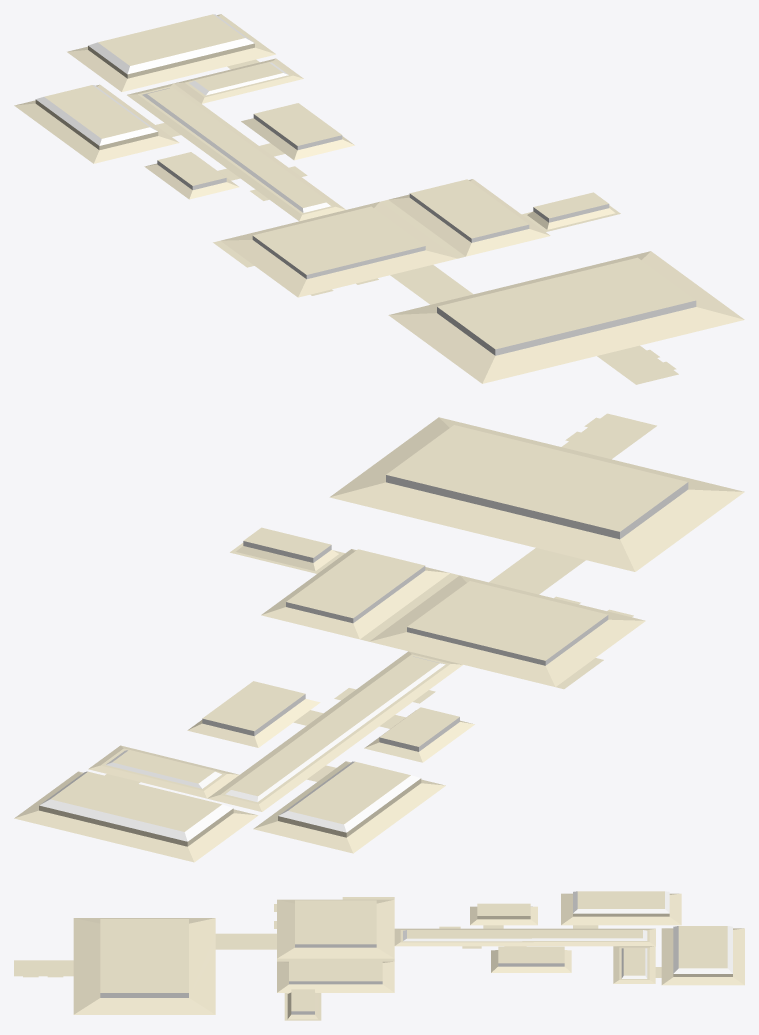
Rendered from Ceiling03.FBX.
3 views of the same model, one above another, from view 1: azimuth 30°, elevation 25°; view 2: azimuth 150°, elevation 25°; view 3: azimuth 270°, elevation 25° (orthographic). The views are drawn at different scales.
Visible parts, largest first — view 1: Ceiling001; view 2: Ceiling001; view 3: Ceiling001.
Part boxes in pixels (x1,y1,x2,y2): Ceiling001: [14, 14, 744, 384]; Ceiling001: [14, 413, 744, 862]; Ceiling001: [14, 891, 744, 1020].
Bounding box in the file's own units: 3785 × 146 × 9198.
